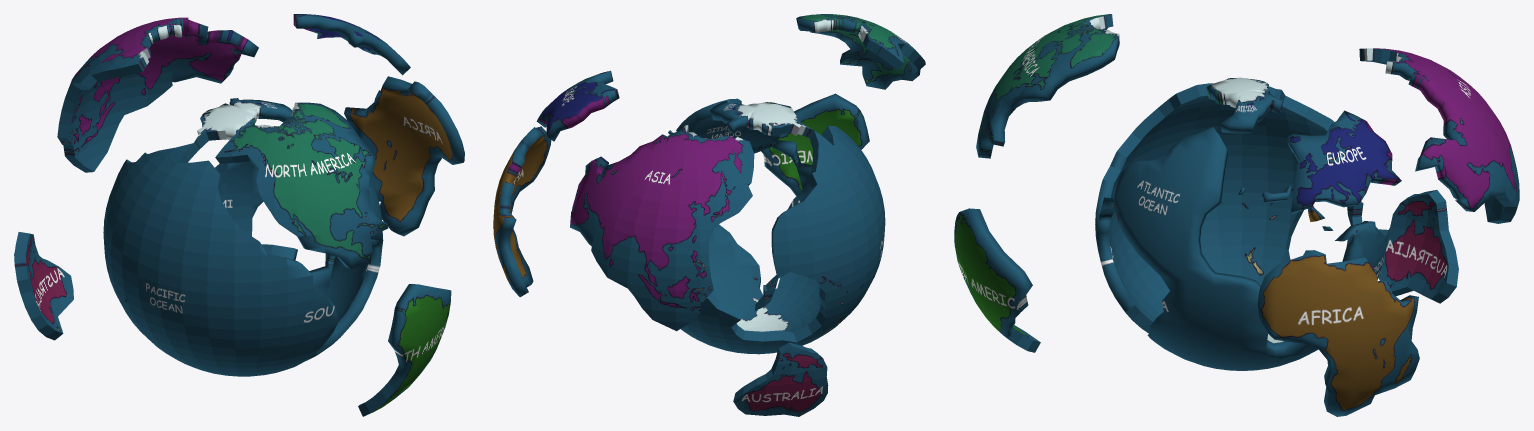
Rendered from earth_cut.fbx.
3 renders of one model, left to right at view 1: azimuth 30°, elevation 25°; view 2: azimuth 150°, elevation 25°; view 3: azimuth 270°, elevation 25°, orthographic. The views are drawn at different scales.
Parts seen in each view (by area): view 1: Sphere; view 2: Sphere; view 3: Sphere.
Part boxes in pixels (bbox=[...]): Sphere: bbox=[14, 14, 464, 416]; Sphere: bbox=[493, 14, 925, 416]; Sphere: bbox=[954, 14, 1519, 416].
Size of the model in its own units: 385 by 289 by 462.
